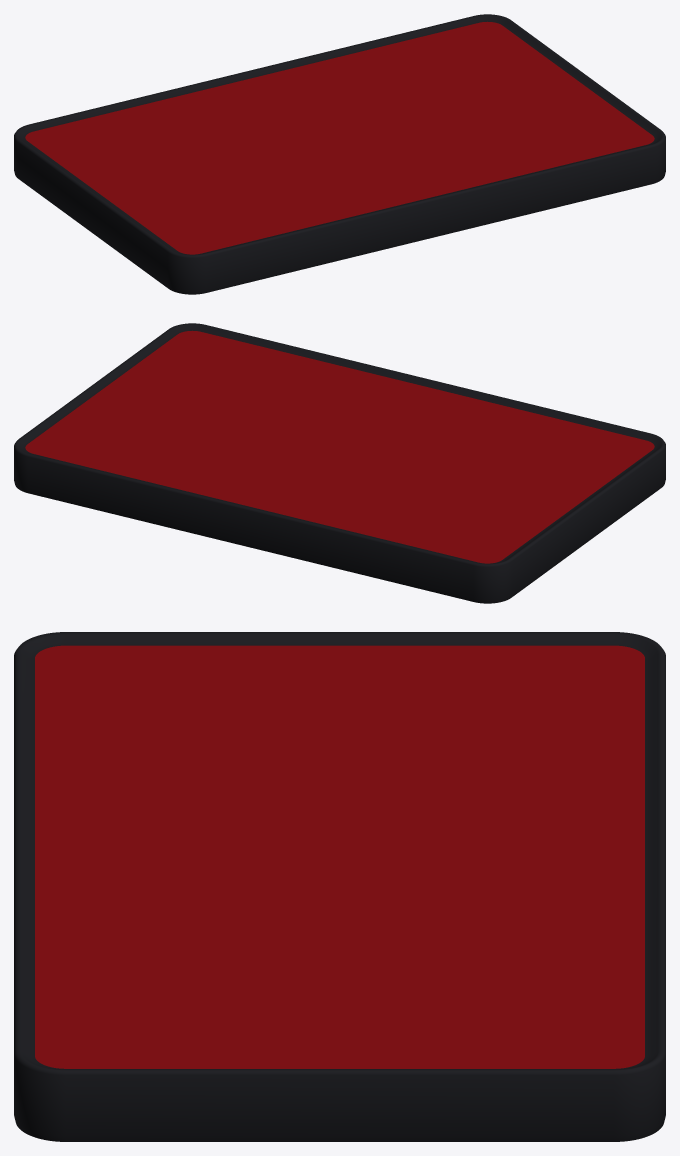
File: rear-reflector-30201069-visible-v1.glb
3 views of the same model, one above another, from view 1: azimuth 30°, elevation 25°; view 2: azimuth 150°, elevation 25°; view 3: azimuth 270°, elevation 25° (orthographic). The views are drawn at different scales.
Visible parts, largest first — view 1: EXTERIOR_CHILD; view 2: EXTERIOR_CHILD; view 3: EXTERIOR_CHILD.
Part boxes in pixels (x1,y1,x2,y2): EXTERIOR_CHILD: (14,14,665,294); EXTERIOR_CHILD: (14,323,665,603); EXTERIOR_CHILD: (14,632,665,1141).
Bounding box in the file's own units: 0.08 × 0.006 × 0.05.
